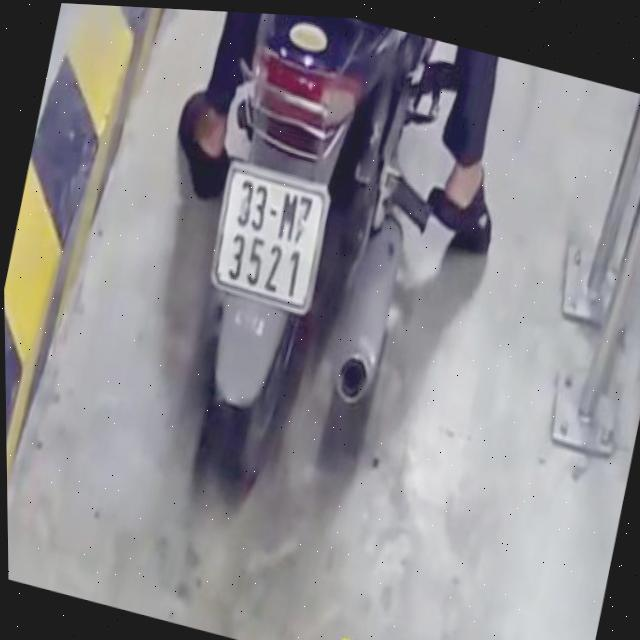motorcycle: (133, 7, 484, 546)
plate: (196, 154, 340, 323)
